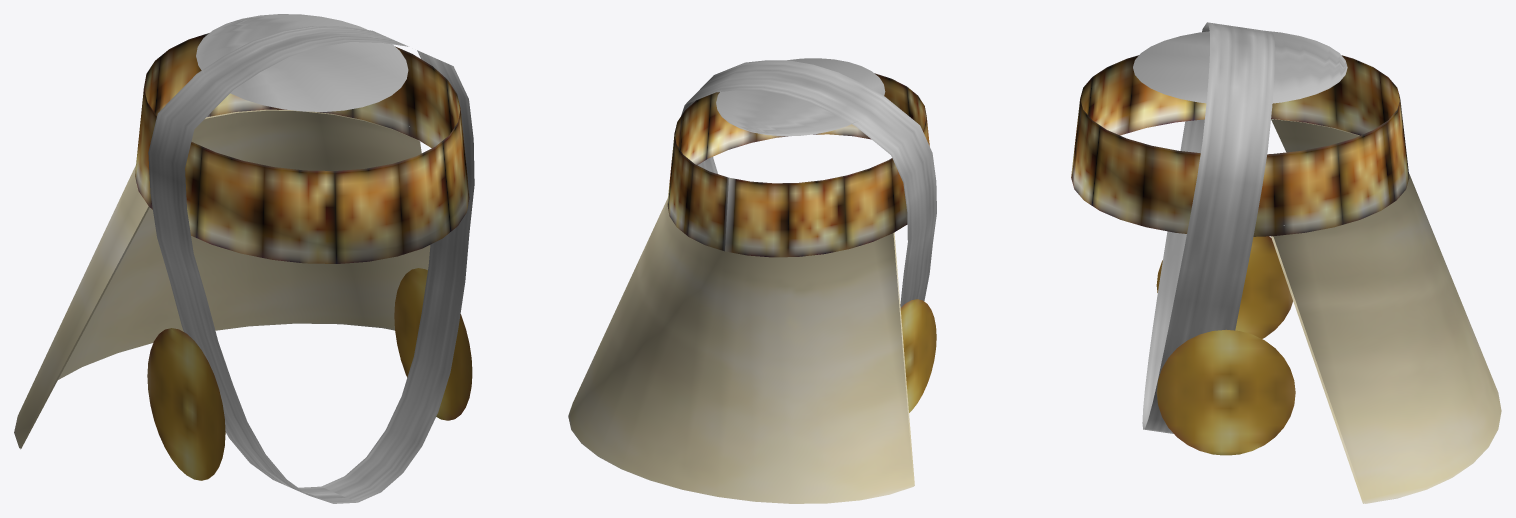
Rendered from helmet_moch_balls_4.dae.
3 renders of one model, left to right at view 1: azimuth 30°, elevation 25°; view 2: azimuth 150°, elevation 25°; view 3: azimuth 270°, elevation 25°, orthographic. The views are drawn at different scales.
Parts seen in each view (by area): view 1: helmet_moch_balls_4; view 2: helmet_moch_balls_4; view 3: helmet_moch_balls_4.
Part boxes in pixels (x1,y1,x2,y2): helmet_moch_balls_4: (14,14,474,503); helmet_moch_balls_4: (568,58,936,503); helmet_moch_balls_4: (1071,22,1501,503).
Bounding box in the file's own units: 0.7223 × 0.7903 × 0.7066.
